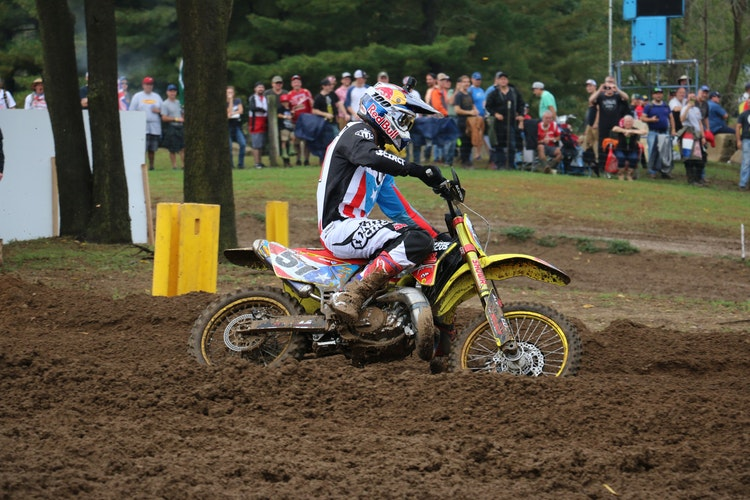helmet: (362, 82, 429, 141)
